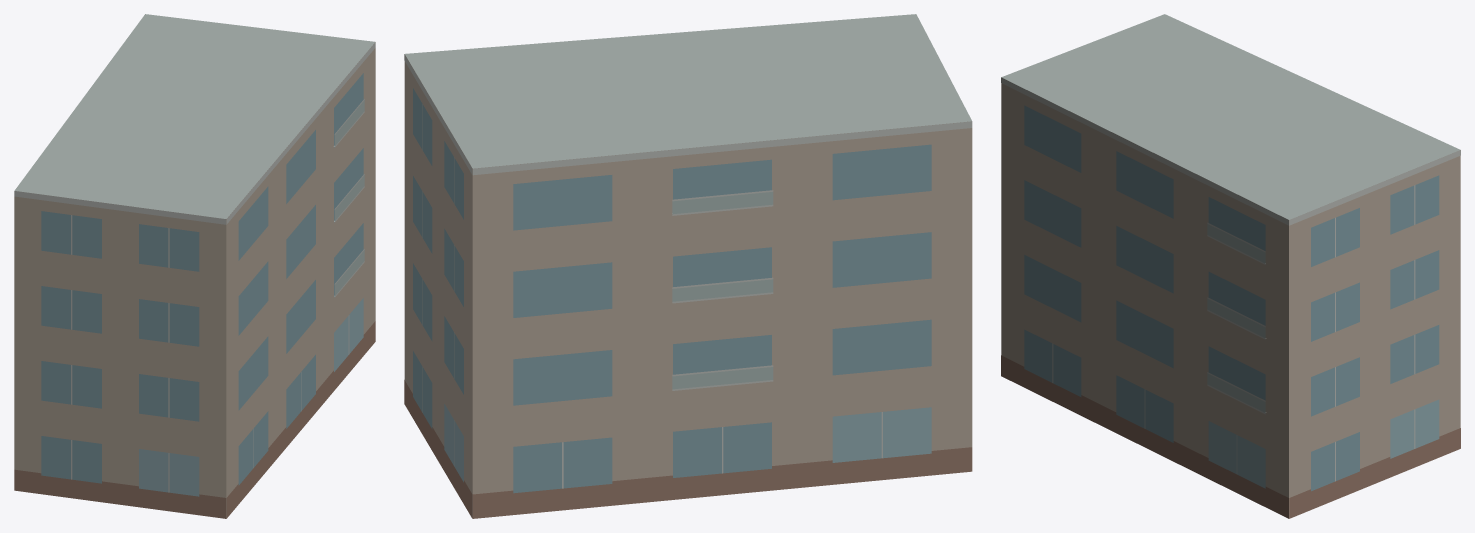
File: survey-upis-32839582.glb
3 views of the same model, side by side, from view 1: azimuth 30°, elevation 25°; view 2: azimuth 150°, elevation 25°; view 3: azimuth 270°, elevation 25° (orthographic). The views are drawn at different scales.
Visible parts, largest first — view 1: survey-upis-32839582.tmp; view 2: survey-upis-32839582.tmp; view 3: survey-upis-32839582.tmp.
Part boxes in pixels (left/top/right/bottom): survey-upis-32839582.tmp: left=14, top=14, right=375, bottom=518; survey-upis-32839582.tmp: left=404, top=14, right=972, bottom=518; survey-upis-32839582.tmp: left=1001, top=14, right=1460, bottom=518.
Size of the model in its own units: 18.94 by 12.8 by 17.85.
